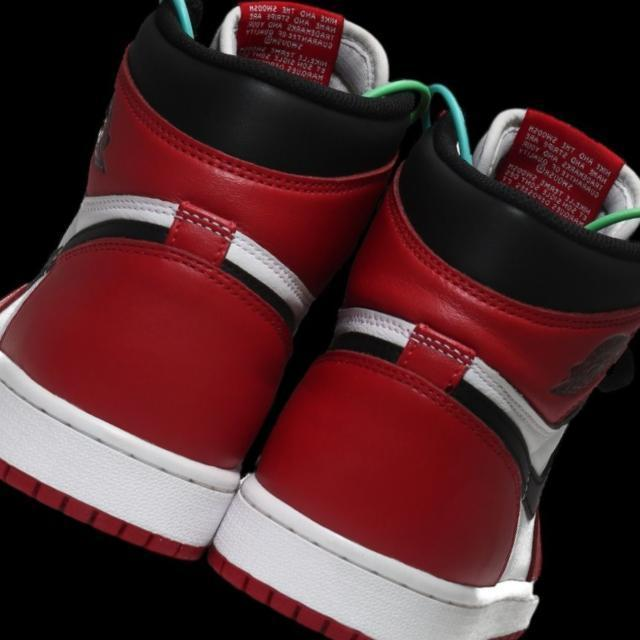nike original jordan 1: (195, 60, 640, 640), (0, 0, 444, 578)
